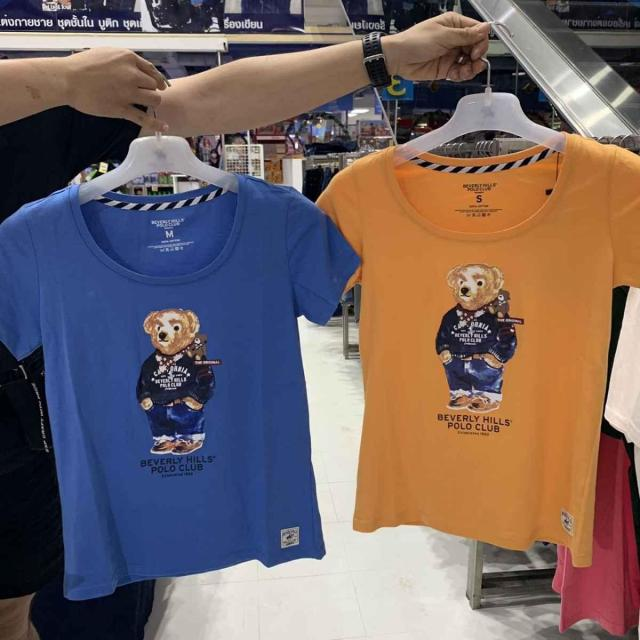Tshirt: (0, 153, 370, 582), (315, 135, 640, 565)
